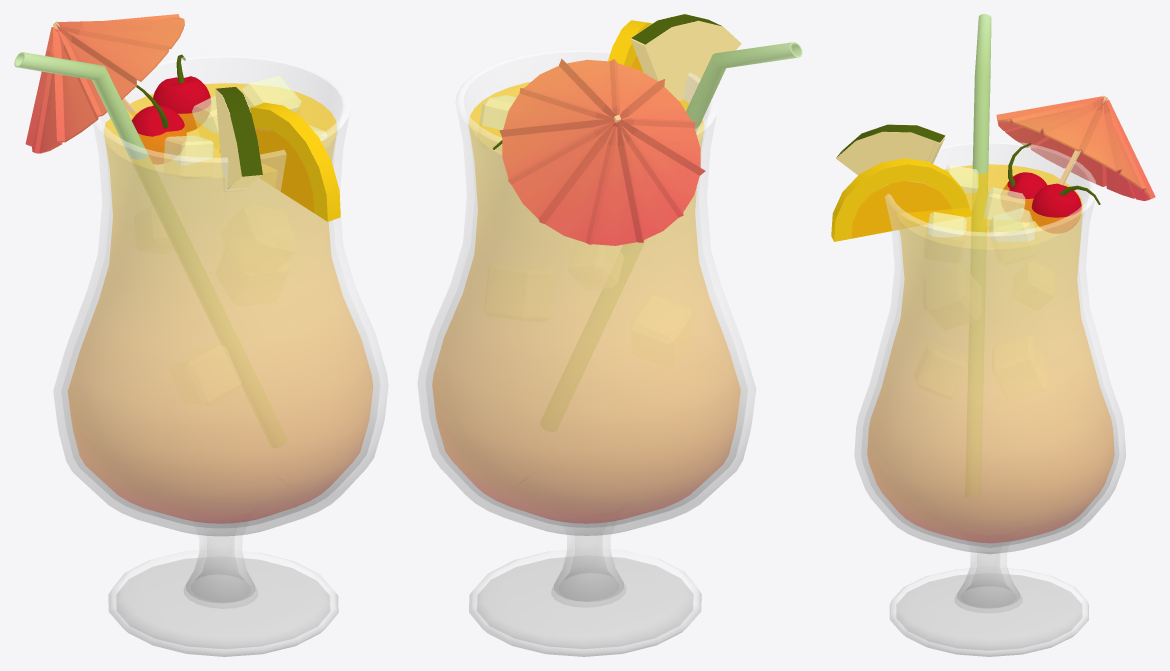
Rendered from cocktail.glb.
3 renders of one model, left to right at view 1: azimuth 30°, elevation 25°; view 2: azimuth 150°, elevation 25°; view 3: azimuth 270°, elevation 25°, orthographic. The views are drawn at different scales.
Visible parts, largest first — view 1: Glas, drink, Cone001, straw, orange, ice, lime, cherry1, cherry2; view 2: Glas, drink, Cone001, straw, lime, orange, ice; view 3: Glas, drink, Cone001, orange, straw, ice, lime, cherry1, cherry2.
Part boxes in pixels (<box>): Glas: <box>53,54,388,656</box>; drink: <box>68,83,372,523</box>; Cone001: <box>25,14,184,153</box>; straw: <box>14,52,286,447</box>; orange: <box>219,102,340,221</box>; ice: <box>164,75,327,278</box>; lime: <box>215,87,262,191</box>; cherry1: <box>153,54,210,131</box>; cherry2: <box>131,85,186,163</box>; Glas: <box>417,48,755,656</box>; drink: <box>432,82,740,523</box>; Cone001: <box>499,58,705,245</box>; straw: <box>540,42,802,431</box>; lime: <box>630,14,741,109</box>; orange: <box>608,20,652,72</box>; ice: <box>479,95,516,137</box>; Glas: <box>854,140,1125,656</box>; drink: <box>867,164,1114,542</box>; Cone001: <box>996,95,1155,200</box>; orange: <box>831,158,972,241</box>; straw: <box>965,14,991,496</box>; ice: <box>928,165,1034,241</box>; lime: <box>836,124,945,175</box>; cherry1: <box>1031,183,1100,233</box>; cherry2: <box>1003,143,1047,220</box>.
Size of the model in its own units: 1.41 by 2.3 by 1.31.
4 materials, 4 textured.
